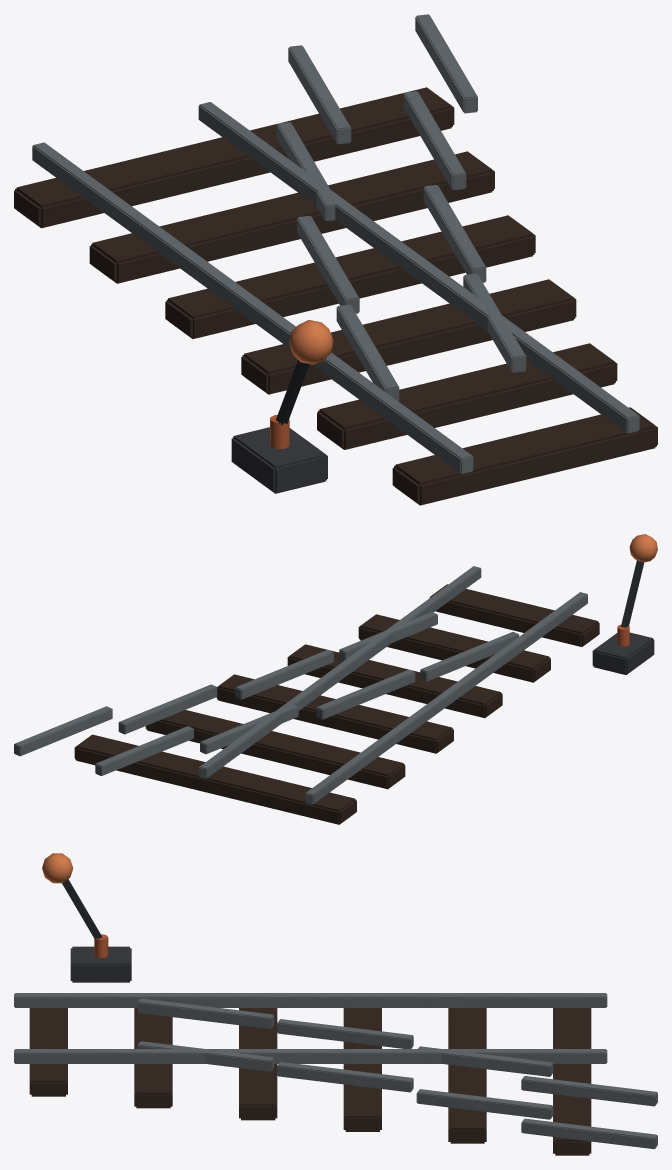
The model's file is mine_cart_turnout.glb.
3 views of the same model, one above another, from view 1: azimuth 30°, elevation 25°; view 2: azimuth 150°, elevation 25°; view 3: azimuth 270°, elevation 25° (orthographic). The views are drawn at different scales.
Parts seen in each view (by area): view 1: mine_cart_turnout; view 2: mine_cart_turnout; view 3: mine_cart_turnout.
Boxes of the visible parts, x1,y1,x2,y2 form: mine_cart_turnout: (14,14,657,505); mine_cart_turnout: (14,534,657,824); mine_cart_turnout: (14,853,657,1155).
Bounding box in the file's own units: 2.64 × 0.84 × 3.69.
1 material, 1 textured.
